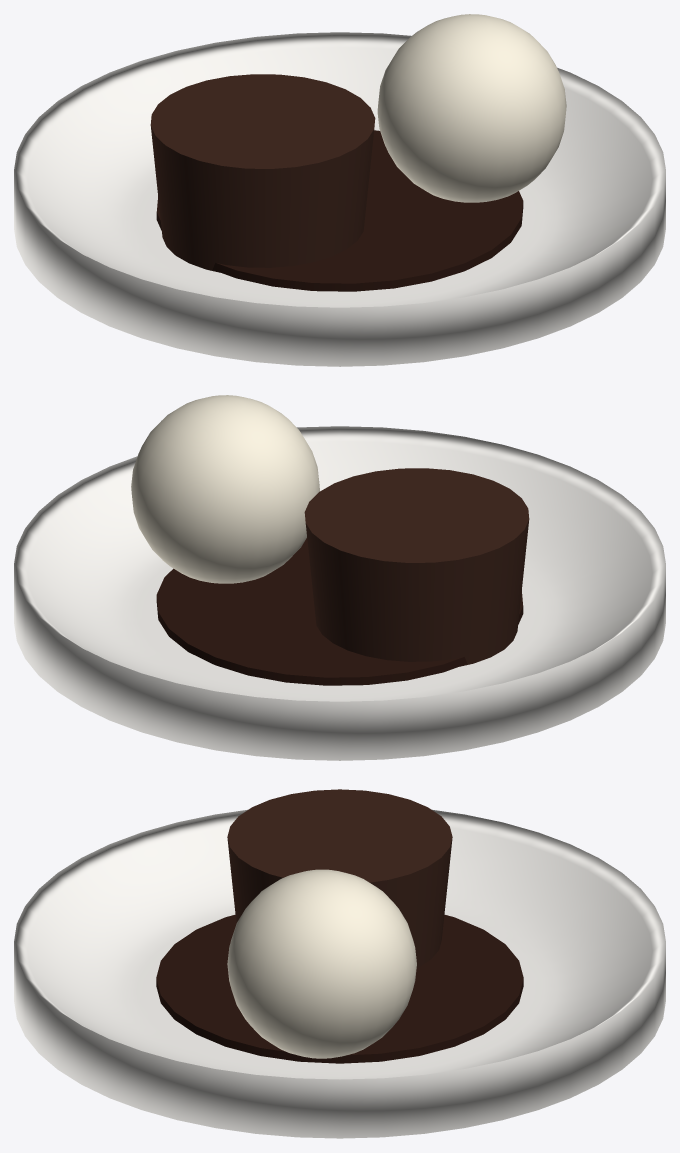
File: sobremesa-1-card.glb
3 views of the same model, one above another, from view 1: azimuth 30°, elevation 25°; view 2: azimuth 150°, elevation 25°; view 3: azimuth 270°, elevation 25° (orthographic).
Size of the model in its own units: 0.22 by 0.068 by 0.22.
